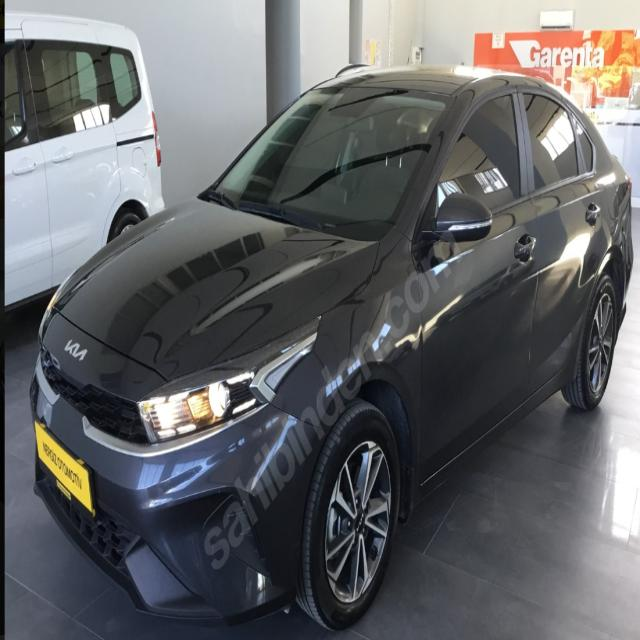kia: (63, 334, 91, 368)
